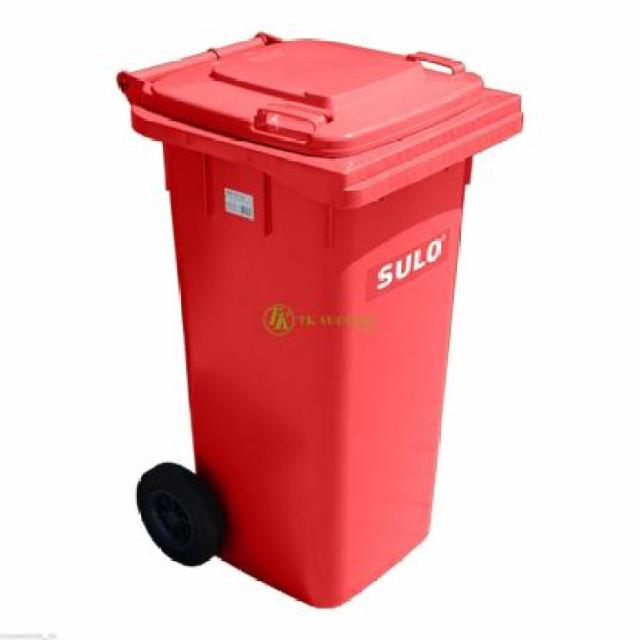garbage container: (103, 25, 546, 620)
